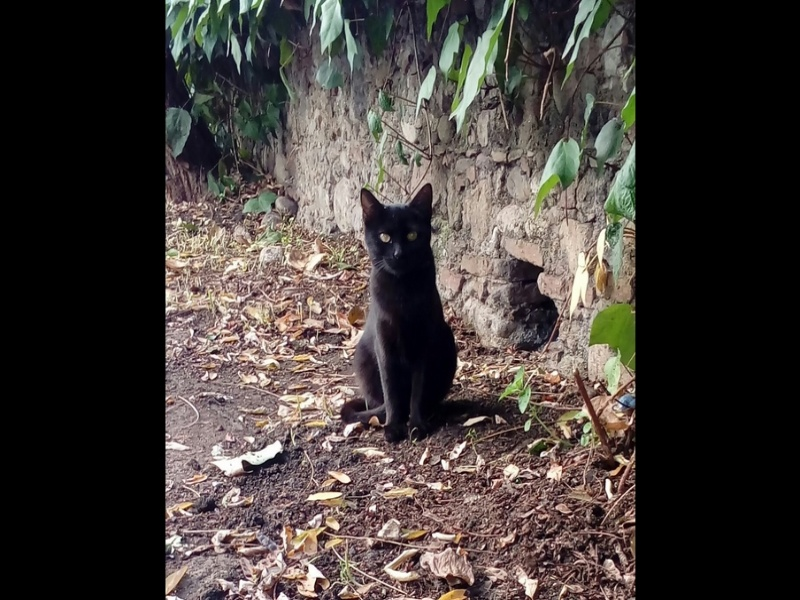cat: (339, 186, 460, 436)
